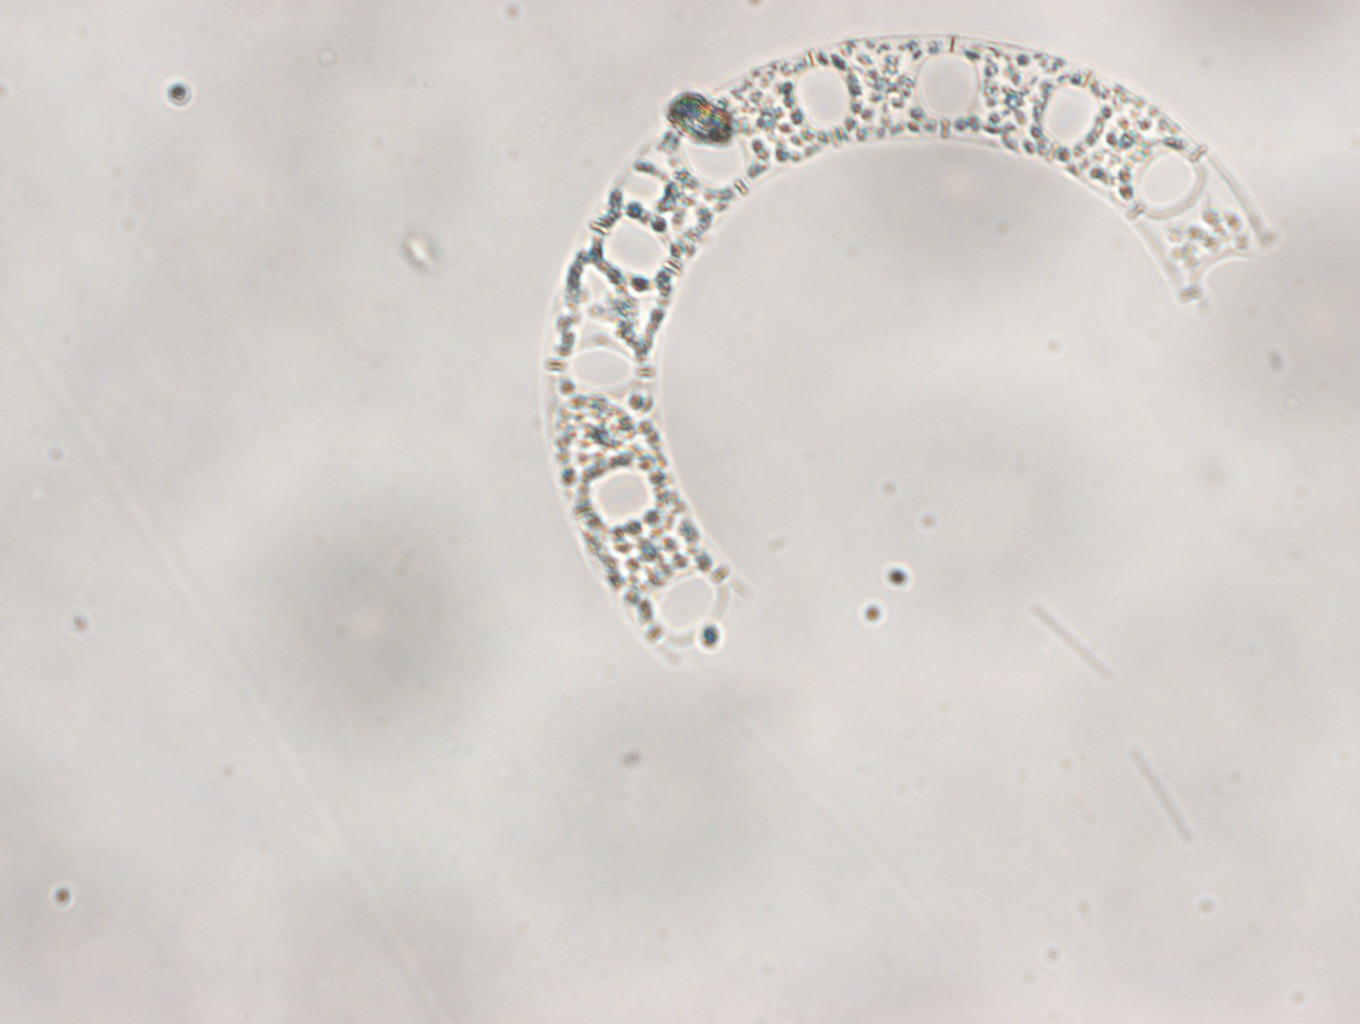eucampia: (543, 34, 1273, 667)
